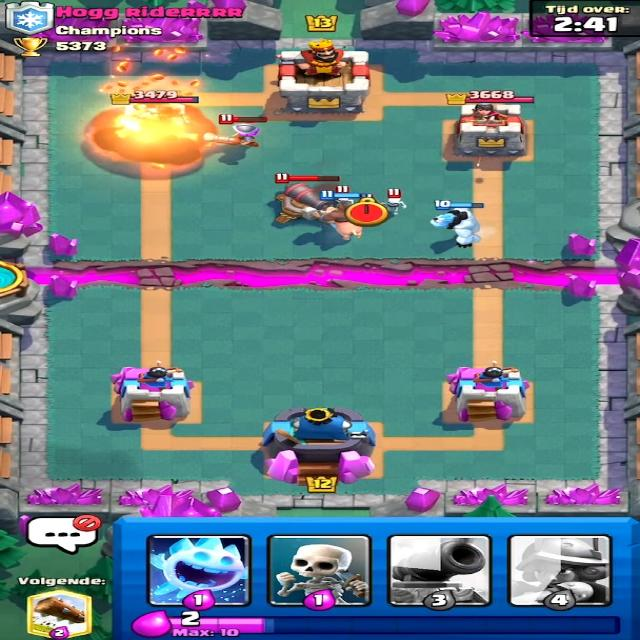Cannon_Card: (394, 534, 492, 605)
Enemy_Cannon_Troop: (271, 182, 337, 220)
Enemy_Musketeer_Troop: (203, 117, 264, 152)
Enemy_Skeleton_Troop: (384, 195, 409, 215)
Hog_Rider_Troop: (318, 197, 367, 240)
Ice_Golem_Troop: (431, 200, 489, 250)
Ice_Spirit_Card: (142, 535, 250, 602)
Musketeer_Card: (512, 532, 609, 605)
Skeleton_Card: (268, 532, 369, 613)
